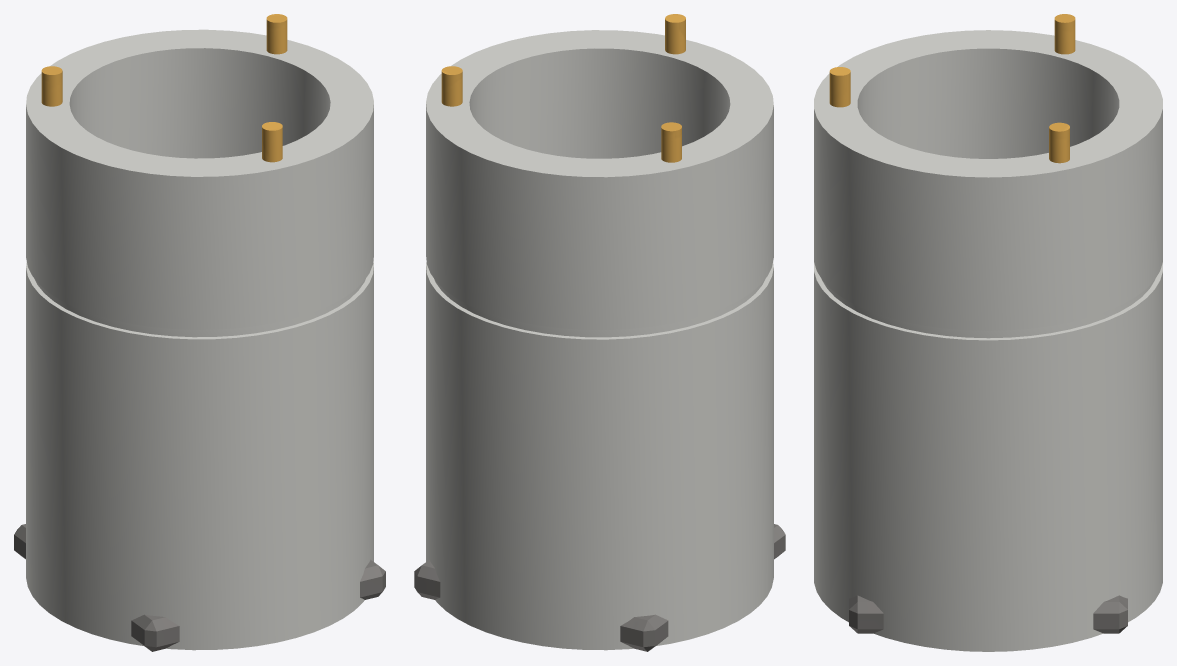
File: ax_util_16_end_effector.glb
The picture shows the model from 3 angles, left to right: view 1: azimuth 30°, elevation 25°; view 2: azimuth 150°, elevation 25°; view 3: azimuth 270°, elevation 25°; orthographic projection.
Parts seen in each view (by area): view 1: snare_housing, tool_changer_plate, contact_pins; view 2: snare_housing, tool_changer_plate, contact_pins; view 3: snare_housing, contact_pins, tool_changer_plate.
Part boxes in pixels (x1=…): snare_housing: x1=26, y1=29, x2=373, y2=650; tool_changer_plate: x1=14, y1=524, x2=385, y2=651; contact_pins: x1=41, y1=14, x2=287, y2=162; snare_housing: x1=426, y1=30, x2=773, y2=650; tool_changer_plate: x1=414, y1=524, x2=785, y2=651; contact_pins: x1=441, y1=14, x2=685, y2=162; snare_housing: x1=814, y1=30, x2=1162, y2=651; contact_pins: x1=829, y1=14, x2=1075, y2=163; tool_changer_plate: x1=849, y1=595, x2=1127, y2=633.
Size of the model in its own units: 0.3998 by 0.64 by 0.3999.
Materials: 4 (3 with a texture image).
